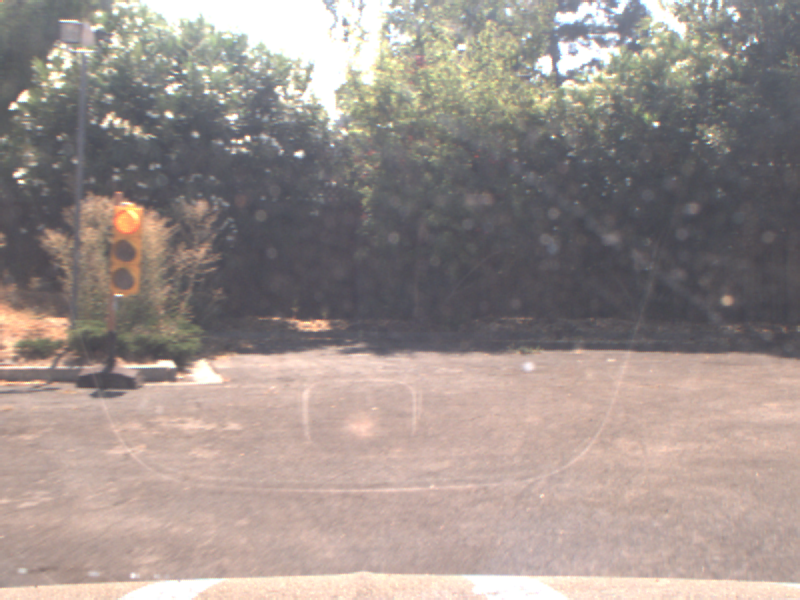red: (106, 199, 139, 295)
